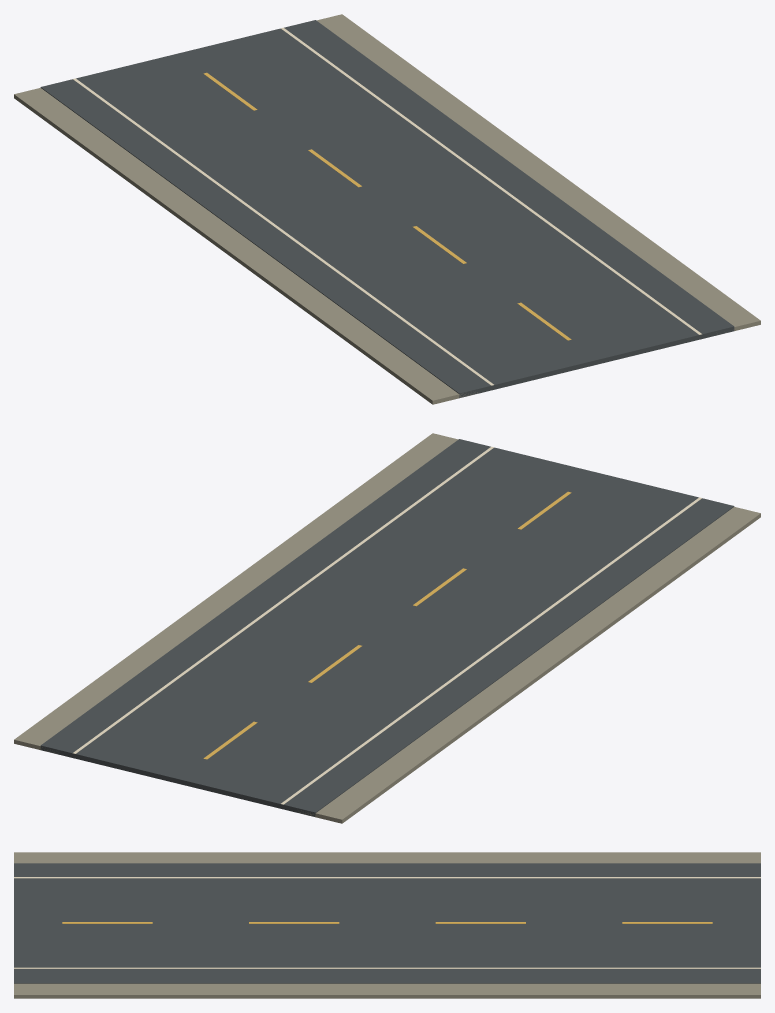
File: two_lane_highway_24m.glb
The picture shows the model from 3 angles, top to bottom: view 1: azimuth 30°, elevation 25°; view 2: azimuth 150°, elevation 25°; view 3: azimuth 270°, elevation 25°; orthographic projection. The views are drawn at different scales.
Visible parts, largest first — view 1: Asphalt bed, Gravel shoulder, Gravel shoulder.001, White edge line.001, White edge line; view 2: Asphalt bed, Gravel shoulder, Gravel shoulder.001, White edge line.001, White edge line; view 3: Asphalt bed, Gravel shoulder.001, Gravel shoulder, White edge line, White edge line.001.
Boxes of the visible parts, box(x1,y1,x2,y2) form: Asphalt bed: box(40, 20, 734, 398); Gravel shoulder: box(14, 88, 477, 404); Gravel shoulder.001: box(316, 14, 760, 332); White edge line.001: box(281, 27, 701, 334); White edge line: box(73, 78, 493, 385); Asphalt bed: box(40, 439, 734, 816); Gravel shoulder: box(298, 507, 760, 823); Gravel shoulder.001: box(14, 433, 458, 753); White edge line.001: box(73, 446, 493, 753); White edge line: box(281, 497, 701, 804); Asphalt bed: box(14, 863, 760, 983); Gravel shoulder.001: box(14, 983, 760, 998); Gravel shoulder: box(14, 852, 760, 863); White edge line: box(14, 877, 760, 878); White edge line.001: box(14, 967, 760, 968).
Size of the model in its own units: 10.86 by 0.155 by 24.
